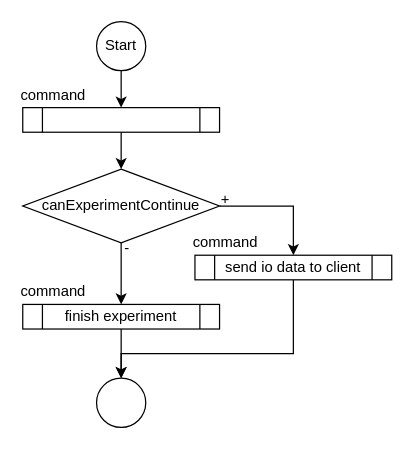
Some shapes in this 413 by 449 pixel diagram are drawn without their labels. The centre of each missing label's shape, as x and y in pixels:
"append result io data" belongs at [121,119].
"End" belongs at [120,402].
